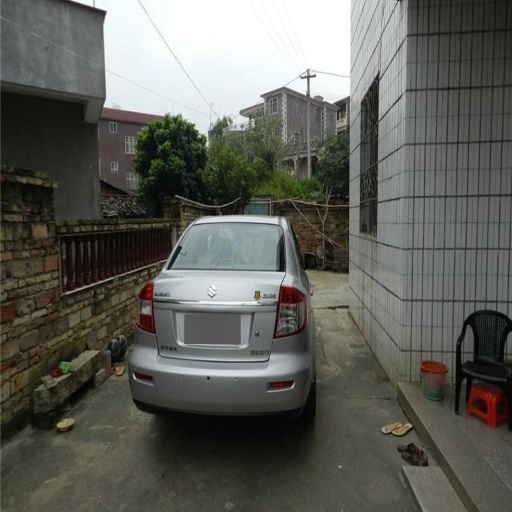back_bumper: (129, 328, 308, 414)
